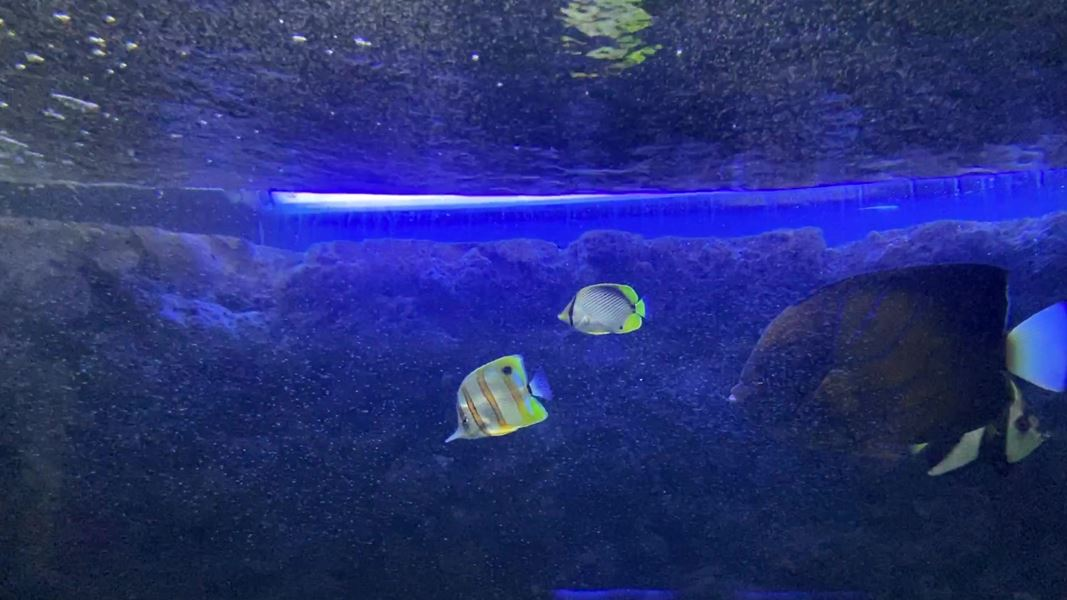Black-backed butterflyfish: (553, 275, 661, 343)
